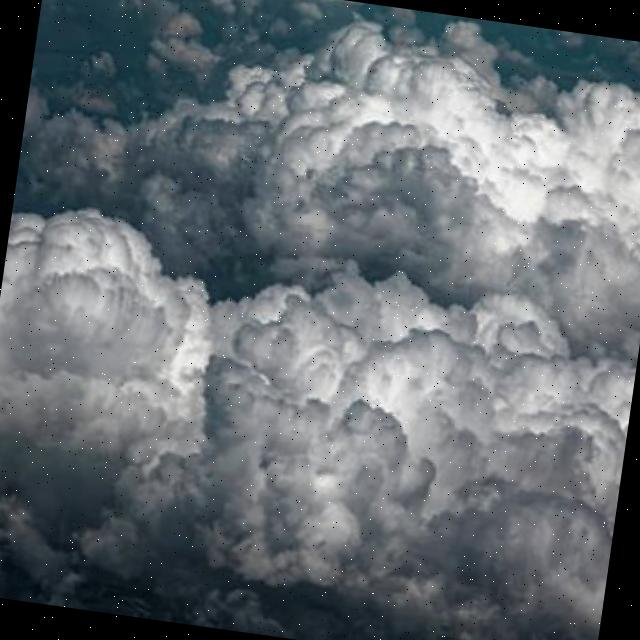St: (1, 193, 640, 640)
